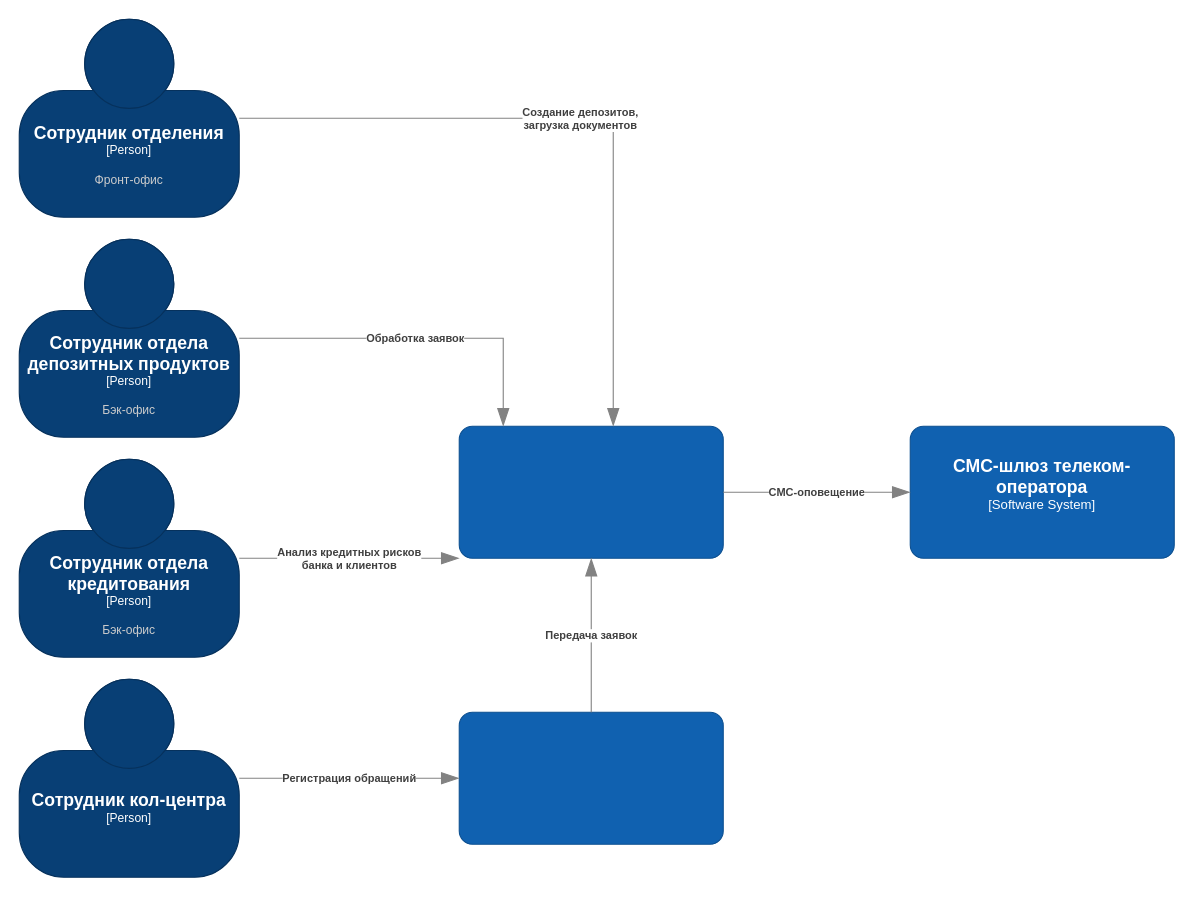
Image size: 1194x897. Some labels were removed from this diagram. The box of each missing label's shape, as (x1, y1, x2, y2) in pixels:
Автоматизированная банковская система (АБС) [Delphi, СУБД Oracle]: (458, 425, 723, 558)
Система кол-центра [React.js, Java Spring Boot, СУБД PostgreSQL]: (458, 711, 723, 844)
